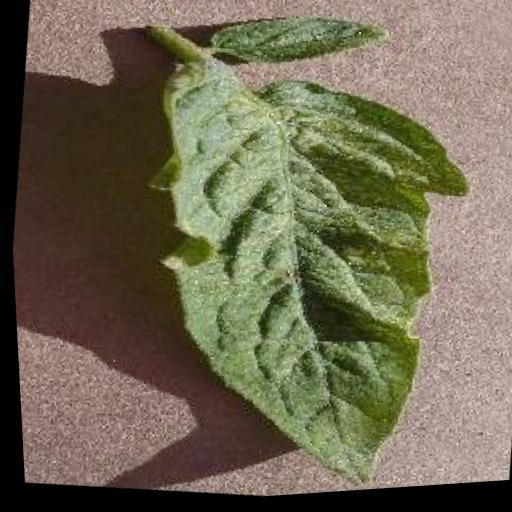Spider Mites: (110, 47, 492, 506)
